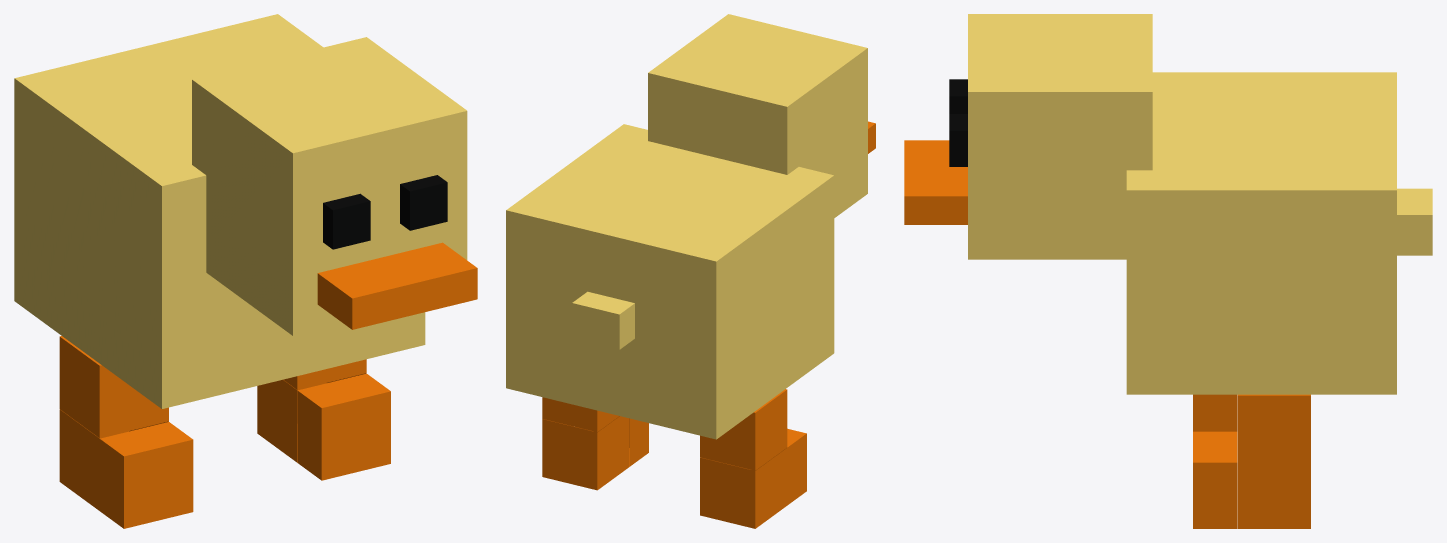
The picture shows the model from 3 angles, left to right: view 1: azimuth 30°, elevation 25°; view 2: azimuth 150°, elevation 25°; view 3: azimuth 270°, elevation 25°; orthographic projection. The views are drawn at different scales.
Parts seen in each view (by area): view 1: Duck; view 2: Duck; view 3: Duck.
Part boxes in pixels (bbox=[...]): Duck: bbox=[14, 14, 477, 528]; Duck: bbox=[506, 14, 875, 528]; Duck: bbox=[904, 14, 1432, 528].
Bounding box in the file's own units: 0.8929 × 1.45 × 1.67.
1 material, 1 textured.
